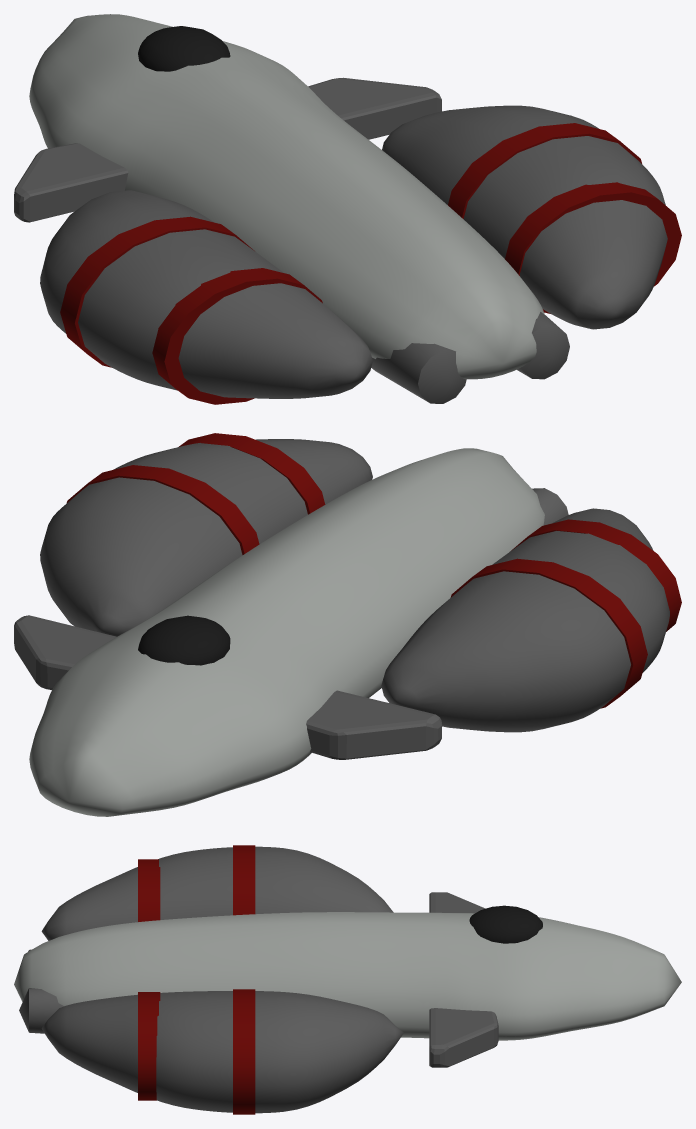
The model's file is silver.glb.
3 views of the same model, one above another, from view 1: azimuth 30°, elevation 25°; view 2: azimuth 150°, elevation 25°; view 3: azimuth 270°, elevation 25° (orthographic). The views are drawn at different scales.
Visible parts, largest first — view 1: fuselage, nacelle_left, nacelle_right, wing_left, stripe_left.001, wing_right, stripe_right.001, stripe_left, prong, stripe_right, canopy, prong.001; view 2: fuselage, nacelle_left, nacelle_right, wing_left, wing_right, stripe_left, canopy, stripe_right, stripe_left.001, stripe_right.001, prong; view 3: fuselage, nacelle_right, nacelle_left, wing_right, stripe_right, stripe_right.001, canopy, stripe_left, stripe_left.001, prong.001, wing_left.
Part boxes in pixels (bbox=[...]): fuselage: bbox=[29, 14, 544, 379]; nacelle_left: bbox=[40, 190, 372, 398]; nacelle_right: bbox=[382, 105, 667, 329]; wing_left: bbox=[14, 143, 128, 222]; stripe_left.001: bbox=[152, 268, 322, 404]; wing_right: bbox=[308, 77, 441, 139]; stripe_right.001: bbox=[505, 182, 681, 313]; stripe_left: bbox=[60, 216, 254, 367]; prong: bbox=[371, 343, 466, 403]; stripe_right: bbox=[448, 123, 641, 218]; canopy: bbox=[138, 26, 230, 71]; prong.001: bbox=[517, 312, 569, 379]; fuselage: bbox=[29, 448, 544, 816]; nacelle_left: bbox=[381, 508, 669, 732]; nacelle_right: bbox=[40, 439, 372, 636]; wing_left: bbox=[306, 690, 441, 759]; wing_right: bbox=[14, 615, 116, 689]; stripe_left: bbox=[450, 558, 647, 708]; canopy: bbox=[138, 615, 230, 665]; stripe_right: bbox=[66, 465, 259, 554]; stripe_left.001: bbox=[511, 519, 681, 631]; stripe_right.001: bbox=[179, 433, 325, 514]; prong: bbox=[532, 488, 568, 525]; fuselage: bbox=[14, 912, 681, 1040]; nacelle_right: bbox=[41, 991, 403, 1113]; nacelle_left: bbox=[41, 846, 393, 940]; wing_right: bbox=[429, 1008, 498, 1067]; stripe_right: bbox=[233, 989, 255, 1114]; stripe_right.001: bbox=[138, 992, 160, 1100]; canopy: bbox=[469, 905, 542, 943]; stripe_left: bbox=[233, 845, 255, 915]; stripe_left.001: bbox=[138, 859, 160, 921]; prong.001: bbox=[19, 988, 63, 1033]; wing_left: bbox=[429, 892, 485, 913].
Bounding box in the file's own units: 20.33 × 5.4 × 26.7.
